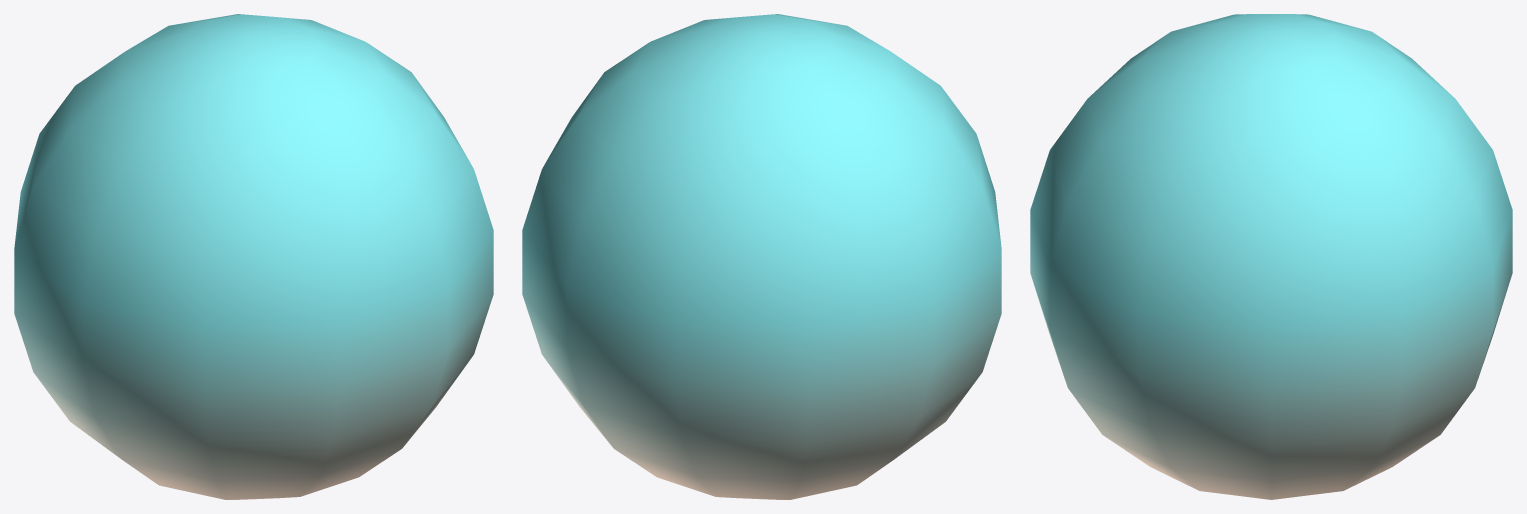
Rendered from Background.fbx.
3 renders of one model, left to right at view 1: azimuth 30°, elevation 25°; view 2: azimuth 150°, elevation 25°; view 3: azimuth 270°, elevation 25°, orthographic.
Parts seen in each view (by area): view 1: Background; view 2: Background; view 3: Background.
Boxes of the visible parts, x1,y1,x2,y2 form: Background: (14,14,493,499); Background: (522,14,1001,499); Background: (1030,14,1512,499).
Size of the model in its own units: 29093 by 30000 by 29392.
